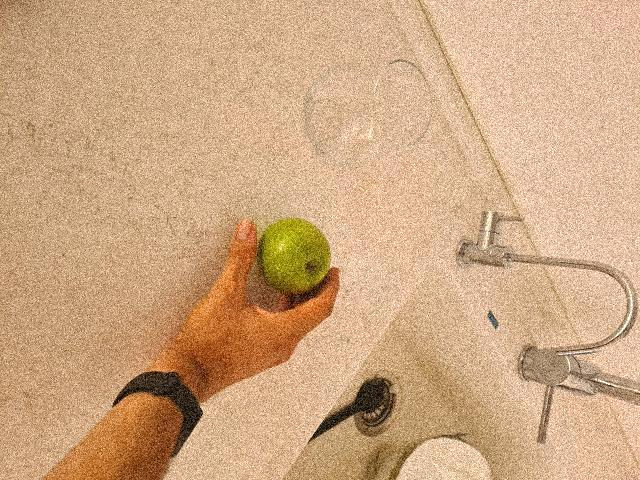apple: (255, 214, 327, 302)
